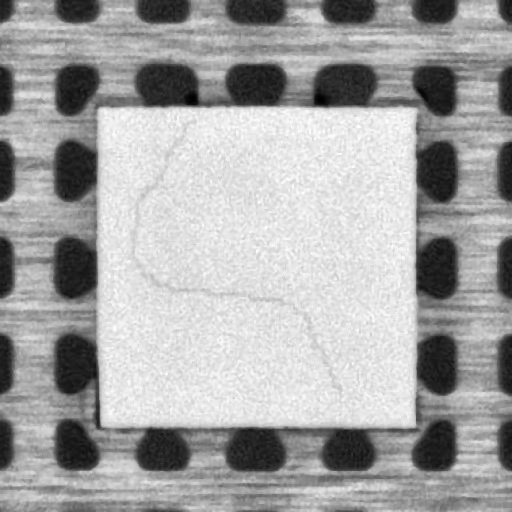DIE_CRACK: (131, 119, 343, 392)
